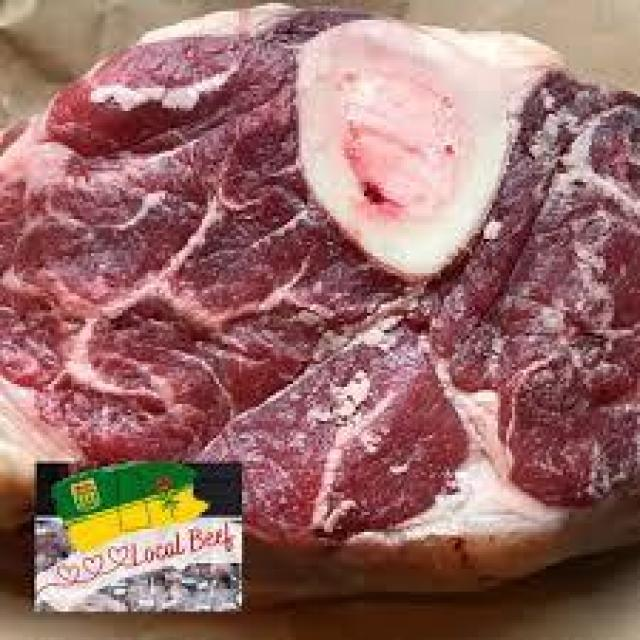Beef: (2, 20, 640, 455)
